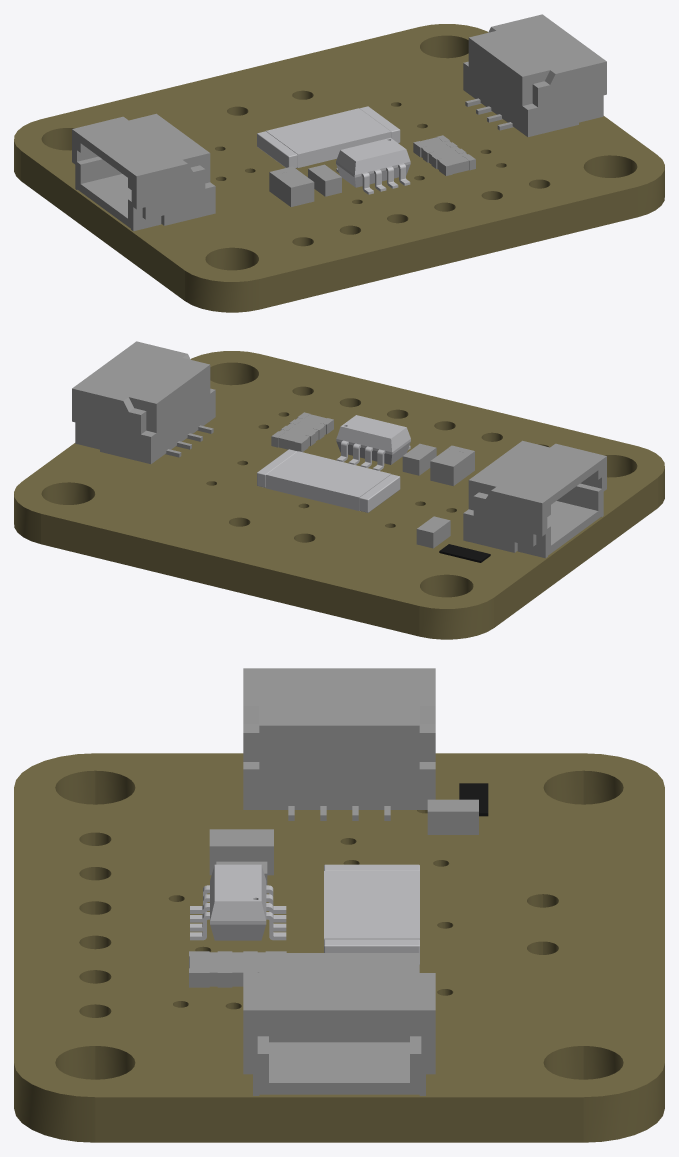
The model's file is ada-904.glb.
The picture shows the model from 3 angles, top to bottom: view 1: azimuth 30°, elevation 25°; view 2: azimuth 150°, elevation 25°; view 3: azimuth 270°, elevation 25°; orthographic projection. The views are drawn at different scales.
Parts seen in each view (by area): view 1: 0.16666666666666666_0.16666666666666666_0.08333333333333333_, 0.3333333333333333_0.3333333333333333_0.3333333333333333_0, 0.5833333333333334_0.5833333333333334_0.5833333333333334_0.8; view 2: 0.16666666666666666_0.16666666666666666_0.08333333333333333_, 0.3333333333333333_0.3333333333333333_0.3333333333333333_0, 0.5833333333333334_0.5833333333333334_0.5833333333333334_0.8, 0_0_0_0; view 3: 0.16666666666666666_0.16666666666666666_0.08333333333333333_, 0.3333333333333333_0.3333333333333333_0.3333333333333333_0, 0.5833333333333334_0.5833333333333334_0.5833333333333334_0.8.
Boxes of the visible parts, x1,y1,x2,y2 form: 0.16666666666666666_0.16666666666666666_0.08333333333333333_: (14,24,664,312); 0.3333333333333333_0.3333333333333333_0.3333333333333333_0: (72,14,606,231); 0.5833333333333334_0.5833333333333334_0.5833333333333334_0.8: (257,106,410,194); 0.16666666666666666_0.16666666666666666_0.08333333333333333_: (14,351,664,639); 0.3333333333333333_0.3333333333333333_0.3333333333333333_0: (72,341,606,558); 0.5833333333333334_0.5833333333333334_0.5833333333333334_0.8: (257,415,410,512); 0_0_0_0: (439,544,490,562); 0.16666666666666666_0.16666666666666666_0.08333333333333333_: (14,753,664,1142); 0.3333333333333333_0.3333333333333333_0.3333333333333333_0: (189,668,478,1095); 0.5833333333333334_0.5833333333333334_0.5833333333333334_0.8: (190,864,419,964).
Bounding box in the file's own units: 2.54 × 0.4529 × 2.03.
